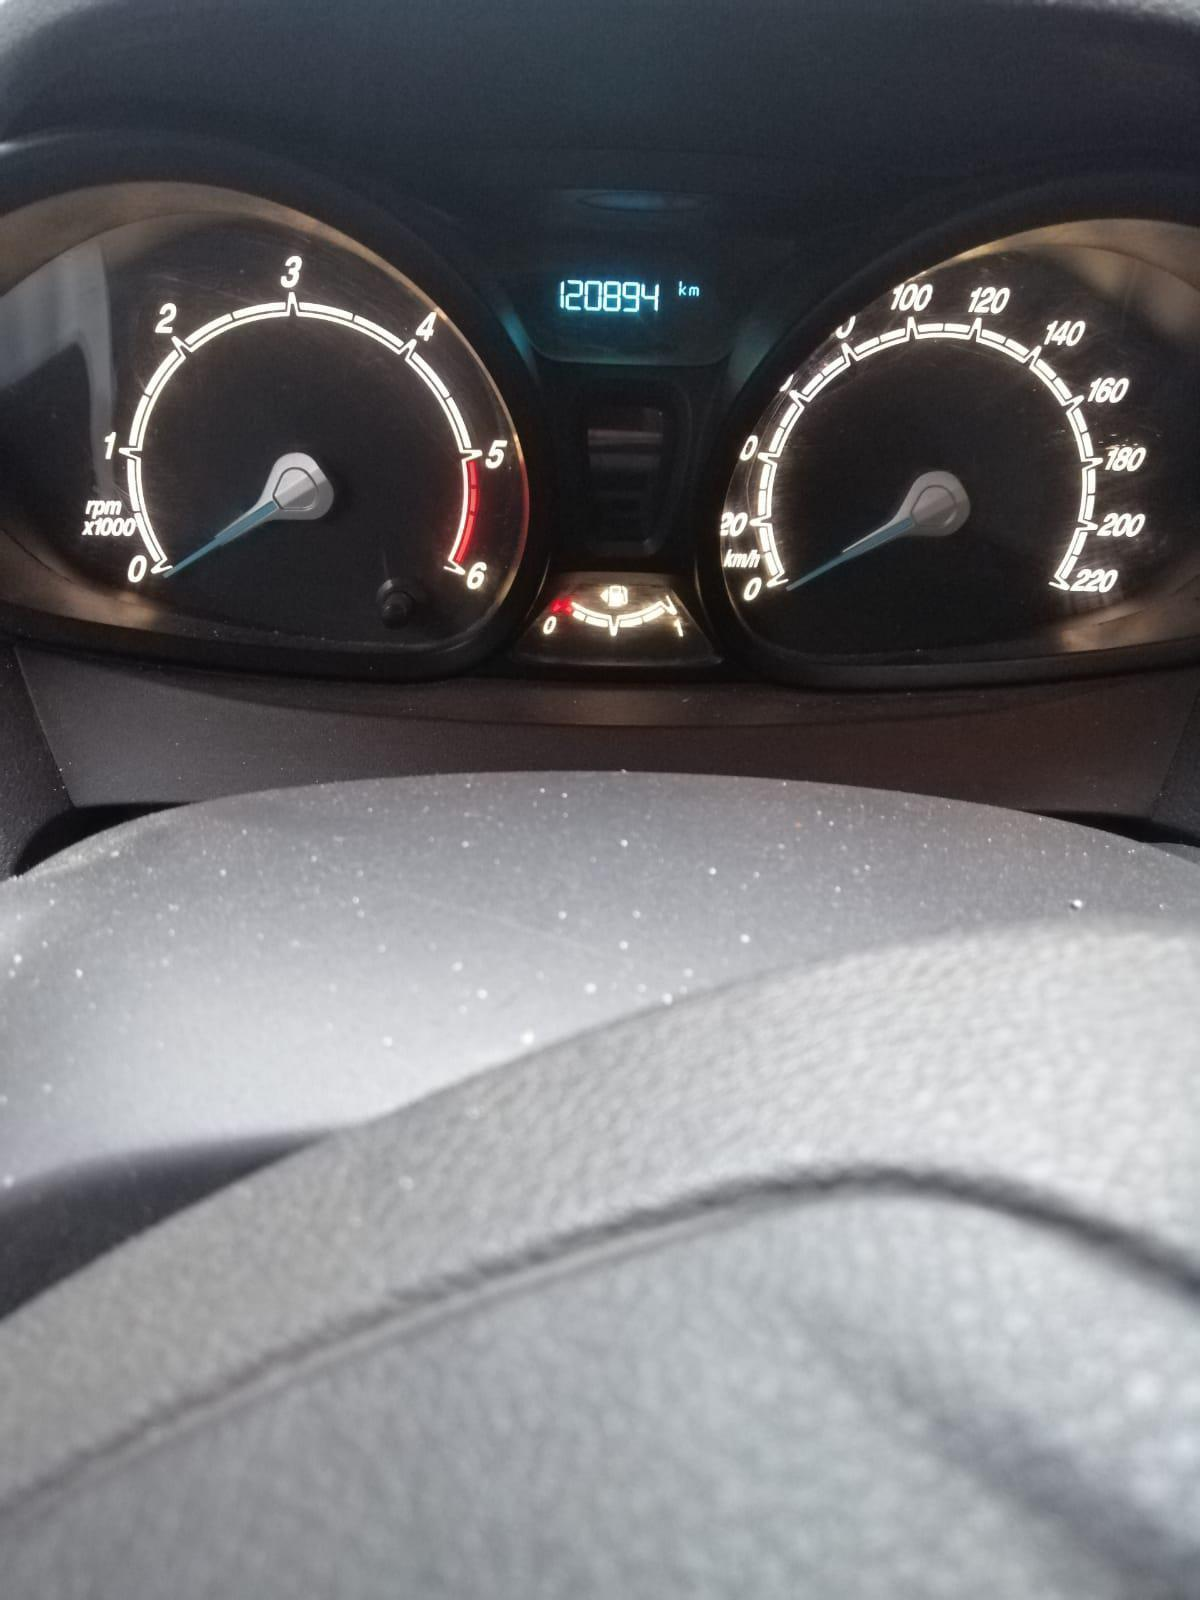0: (584, 278, 603, 312)
1: (558, 278, 565, 311)
2: (565, 277, 584, 311)
4: (640, 281, 661, 312)
8: (603, 278, 621, 312)
9: (621, 280, 640, 312)
X: (688, 283, 701, 299), (677, 277, 686, 297)
odometer: (531, 249, 720, 349)
